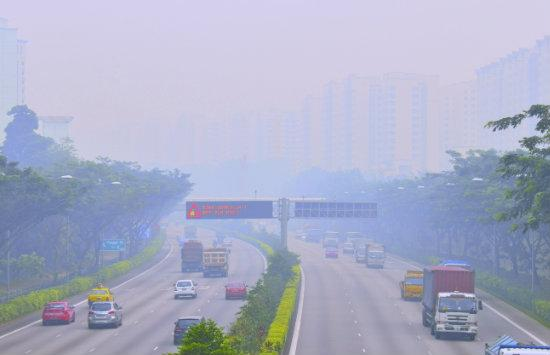bus: (422, 264, 484, 340), (437, 258, 477, 306), (484, 334, 549, 355), (399, 269, 428, 302), (202, 247, 231, 278), (180, 241, 204, 273), (365, 243, 386, 269), (353, 238, 374, 263), (303, 223, 321, 243), (344, 232, 362, 251), (322, 232, 339, 249), (183, 225, 198, 240)
car: (87, 301, 123, 329), (173, 316, 206, 345), (42, 300, 77, 324), (87, 282, 115, 309), (224, 280, 249, 300), (173, 280, 198, 299), (325, 246, 339, 259), (343, 242, 354, 254), (294, 229, 305, 240), (222, 238, 233, 248), (301, 232, 308, 242)
